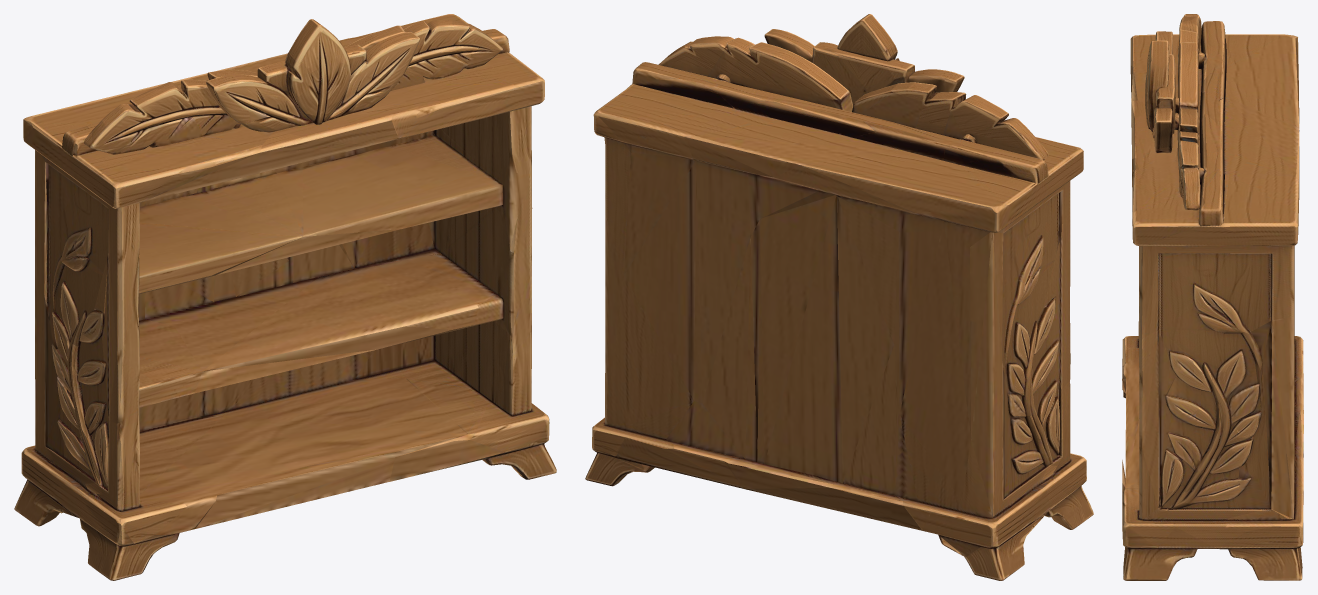
The model's file is TrophyShelf.fbx.
The picture shows the model from 3 angles, left to right: view 1: azimuth 30°, elevation 25°; view 2: azimuth 150°, elevation 25°; view 3: azimuth 270°, elevation 25°; orthographic projection. The views are drawn at different scales.
Parts seen in each view (by area): view 1: TrophyShelf; view 2: TrophyShelf; view 3: TrophyShelf.
Boxes of the visible parts, x1,y1,x2,y2 form: TrophyShelf: (14, 14, 556, 580); TrophyShelf: (585, 14, 1093, 580); TrophyShelf: (1122, 14, 1303, 580).
Size of the model in its own units: 1.62 by 1.7 by 0.6317.
1 material, 1 textured.
